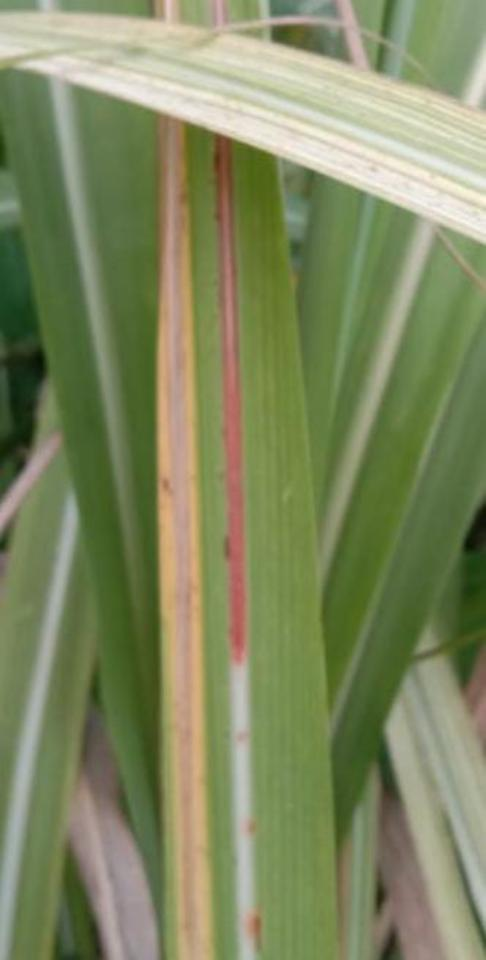RedRot: (214, 133, 250, 670), (241, 907, 265, 955), (239, 816, 261, 836), (232, 727, 251, 747)
Yellow: (156, 114, 213, 959)
